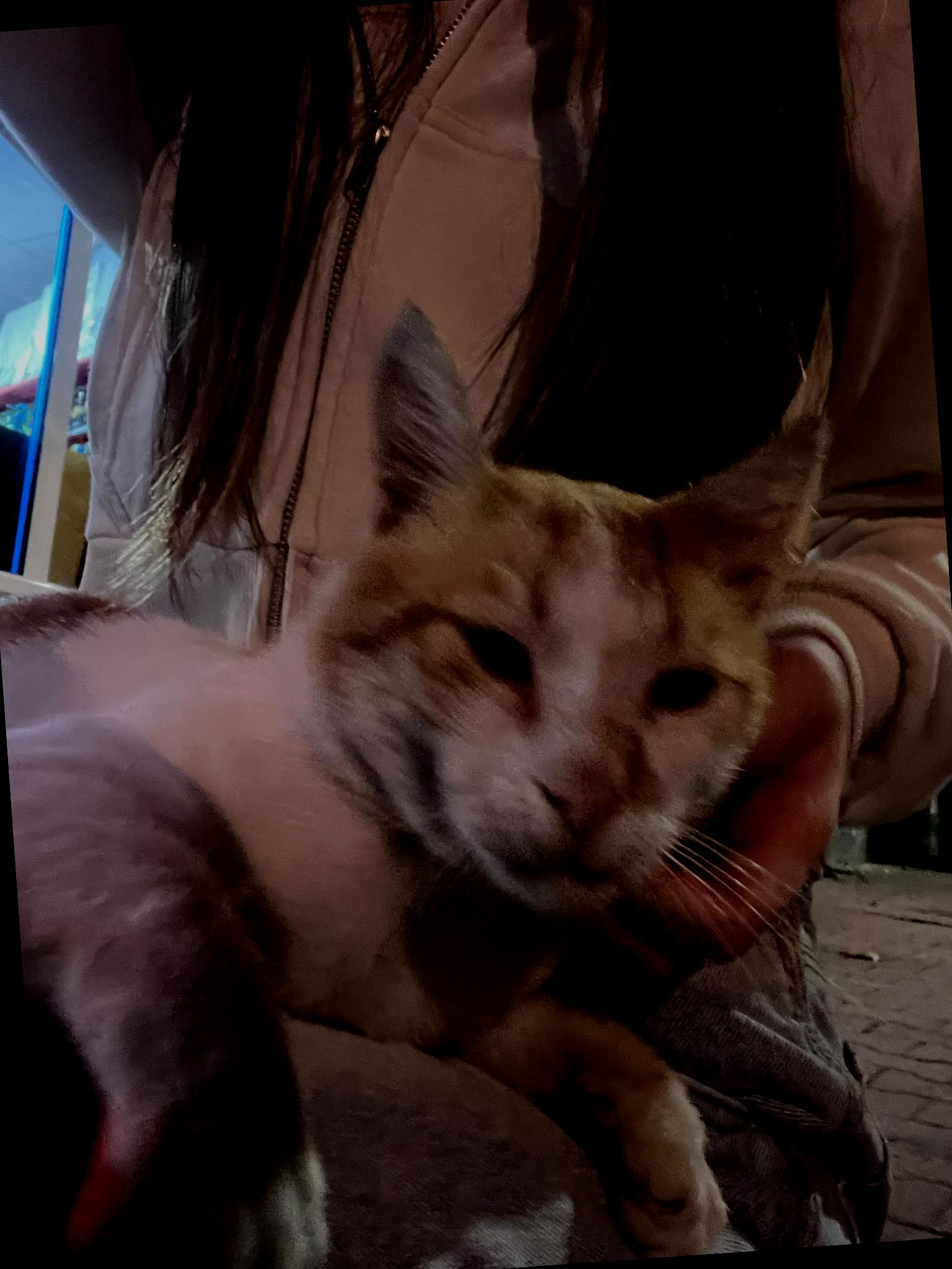macka: (0, 271, 889, 1269)
